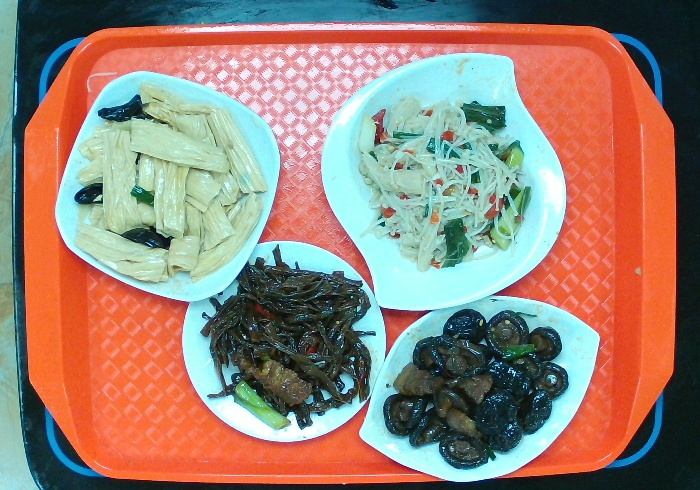RJxy-Da_Du_Pan: (357, 293, 602, 483)
RJxy-Shuang_Jiao_Pan: (319, 50, 568, 312)
RJxy-Si_Fang_Wan: (53, 69, 282, 303)
RJxy-Xiao_Yuan_Die: (180, 238, 388, 443)
